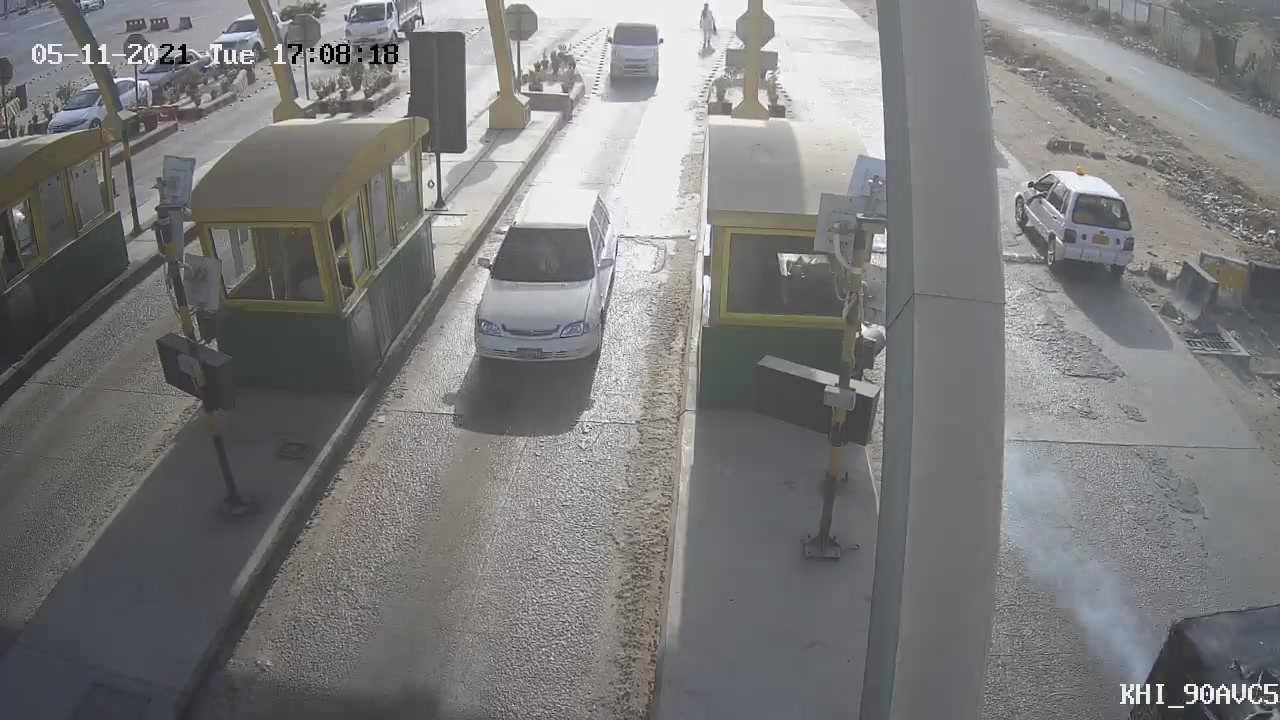F1: (444, 168, 646, 383)
